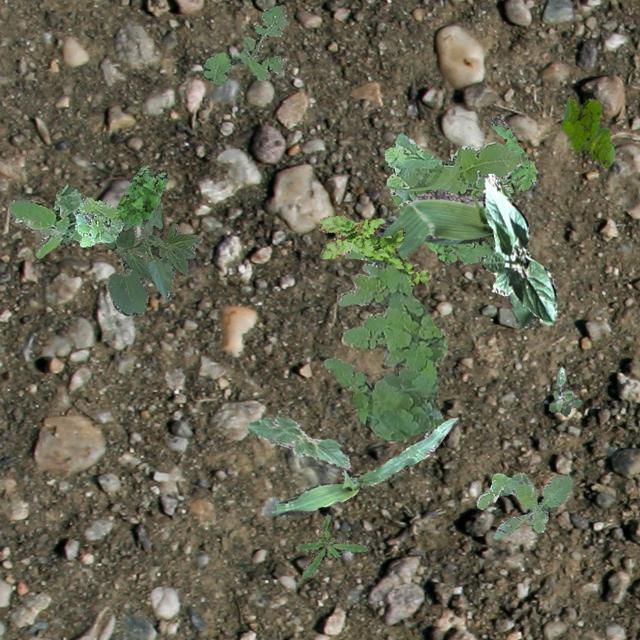crop: (368, 188, 536, 328), (276, 416, 457, 516), (100, 198, 202, 314), (482, 172, 556, 324), (246, 416, 350, 468)
weed: (322, 248, 447, 440), (384, 132, 524, 262), (423, 115, 538, 262), (318, 214, 430, 286), (202, 4, 288, 82), (476, 472, 572, 538), (7, 184, 82, 258), (294, 512, 366, 578), (560, 94, 614, 166), (114, 164, 168, 226), (74, 197, 122, 246), (548, 366, 580, 414)
